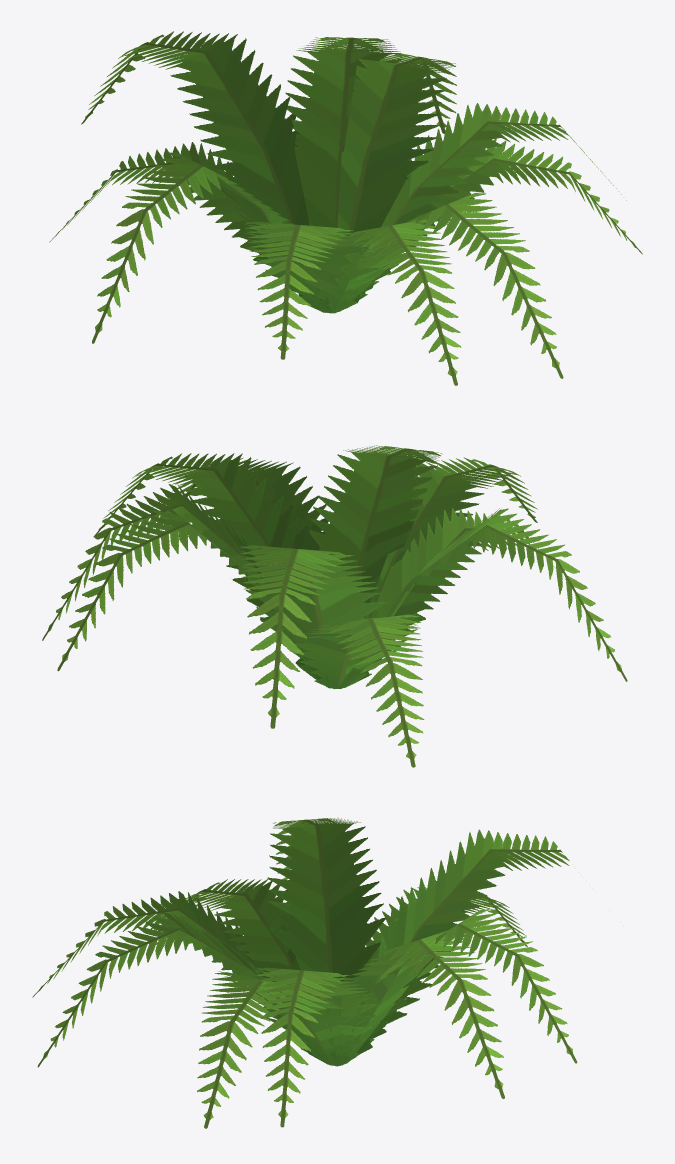
The model's file is Grass_Fern_B.fbx.
3 views of the same model, one above another, from view 1: azimuth 30°, elevation 25°; view 2: azimuth 150°, elevation 25°; view 3: azimuth 270°, elevation 25° (orthographic). The views are drawn at different scales.
Parts seen in each view (by area): view 1: Grass_Fern_B_LOD0; view 2: Grass_Fern_B_LOD0; view 3: Grass_Fern_B_LOD0.
Part boxes in pixels (x1=…): Grass_Fern_B_LOD0: x1=49, y1=31, x2=642, y2=385; Grass_Fern_B_LOD0: x1=42, y1=445, x2=627, y2=767; Grass_Fern_B_LOD0: x1=32, y1=817, x2=577, y2=1128.
Size of what is drawn, in the model's own units: 1.82 by 0.634 by 1.93.
